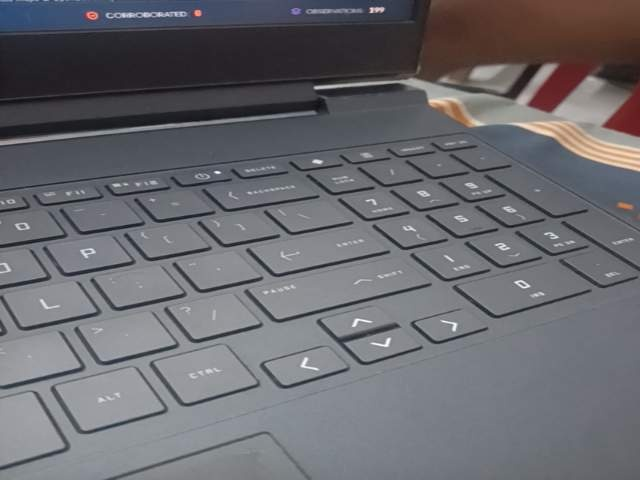pothole: (105, 403, 315, 480), (536, 403, 640, 480)
